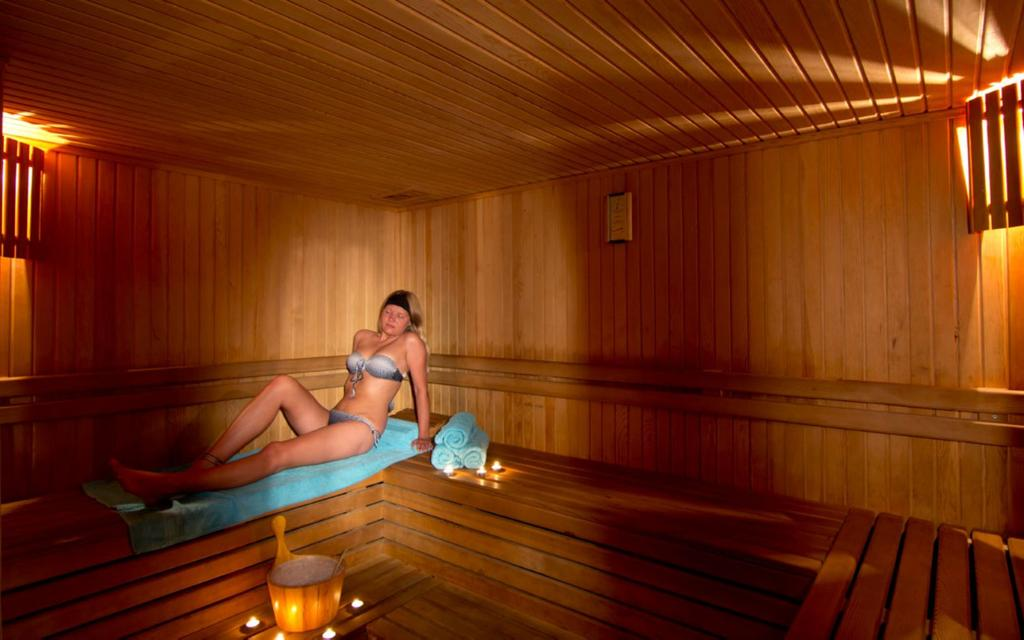face: (380, 301, 406, 335)
